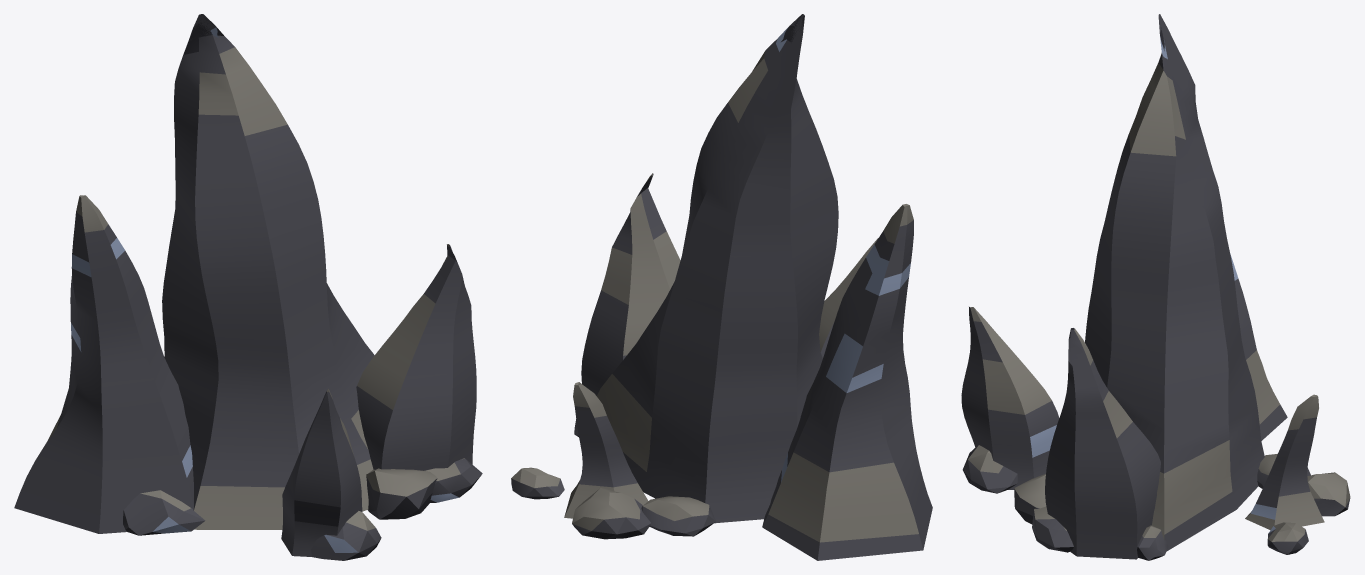
File: spire_regolith_b.glb
3 renders of one model, left to right at view 1: azimuth 30°, elevation 25°; view 2: azimuth 150°, elevation 25°; view 3: azimuth 270°, elevation 25°, orthographic. The views are drawn at different scales.
Visible parts, largest first — view 1: spire_regolith_b; view 2: spire_regolith_b; view 3: spire_regolith_b.
Part boxes in pixels (box(x1,y1,x2,y2)): spire_regolith_b: box(14, 14, 482, 560); spire_regolith_b: box(511, 14, 932, 560); spire_regolith_b: box(961, 14, 1350, 560).
Bounding box in the file's own units: 3.7 × 4.34 × 3.47.
